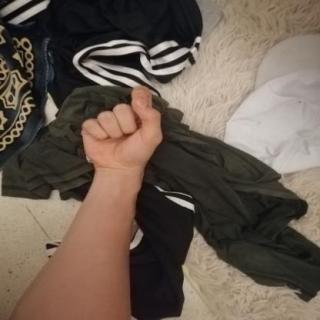FAA: (70, 80, 174, 177)
